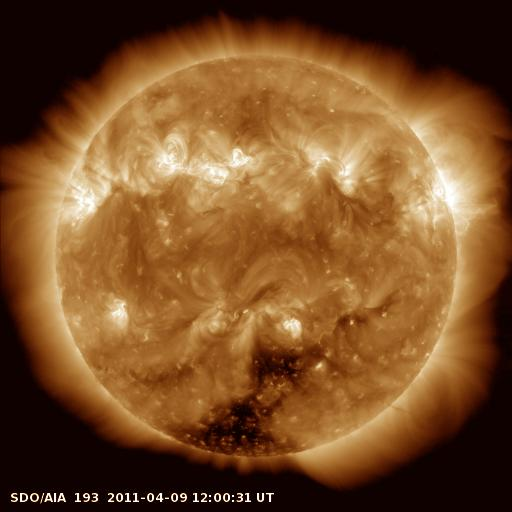coronal_hole: (165, 339, 325, 459)
